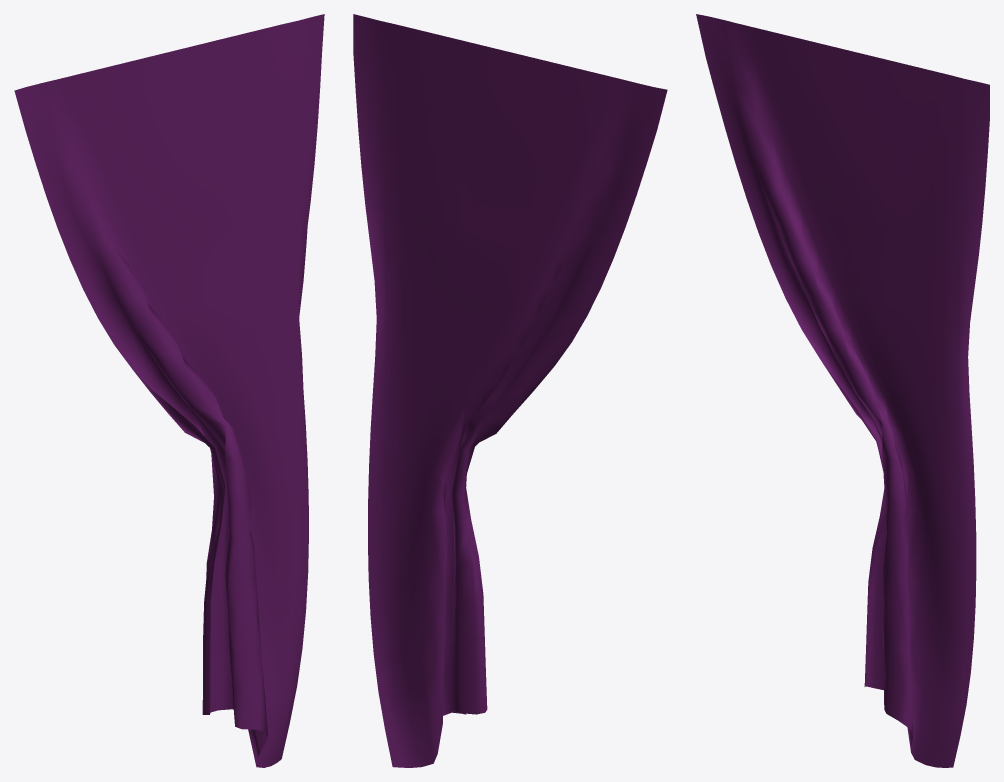
The model's file is e1bbf23d-8499-4b0b-b65c-5b2fff4278e2.glb.
The picture shows the model from 3 angles, left to right: view 1: azimuth 30°, elevation 25°; view 2: azimuth 150°, elevation 25°; view 3: azimuth 330°, elevation 25°; orthographic projection. The views are drawn at different scales.
Parts seen in each view (by area): view 1: CurtainRightRoyalPurple; view 2: CurtainRightRoyalPurple; view 3: CurtainRightRoyalPurple.
Part boxes in pixels (x1=…): CurtainRightRoyalPurple: x1=14, y1=14, x2=324, y2=767; CurtainRightRoyalPurple: x1=353, y1=14, x2=667, y2=767; CurtainRightRoyalPurple: x1=696, y1=14, x2=989, y2=767.
Size of the model in its own units: 0.874 by 1.98 by 0.0844.
1 material, 1 textured.
